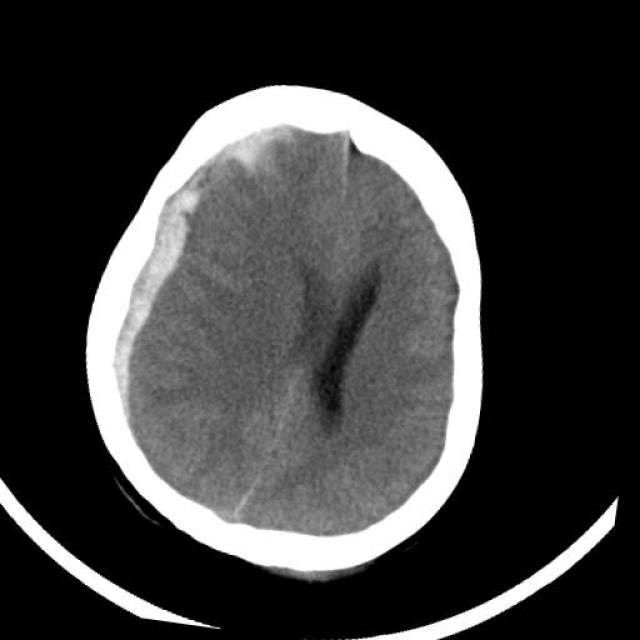Subdural: (34, 95, 312, 479)
